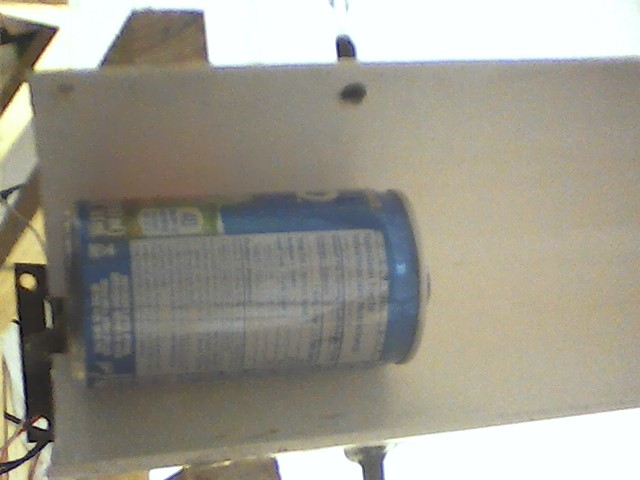lata: (58, 182, 437, 386)
